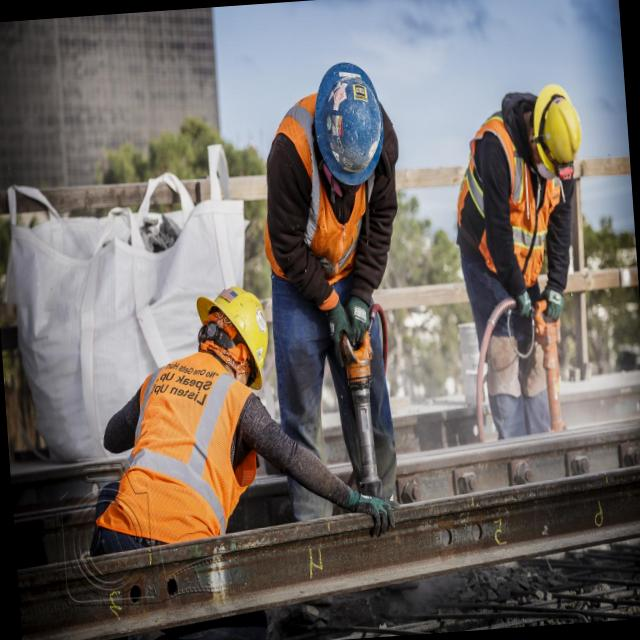helmet: (303, 46, 397, 198), (186, 270, 286, 376), (522, 78, 598, 190)
vest: (75, 346, 288, 546), (246, 157, 396, 289), (449, 160, 570, 282)
